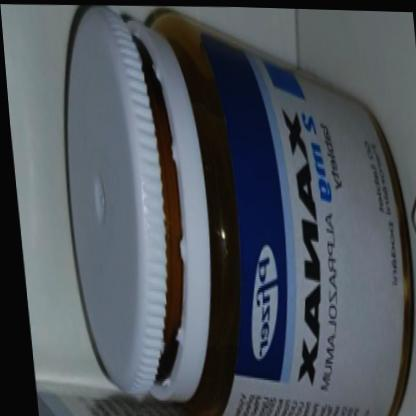jar: (66, 7, 412, 416)
